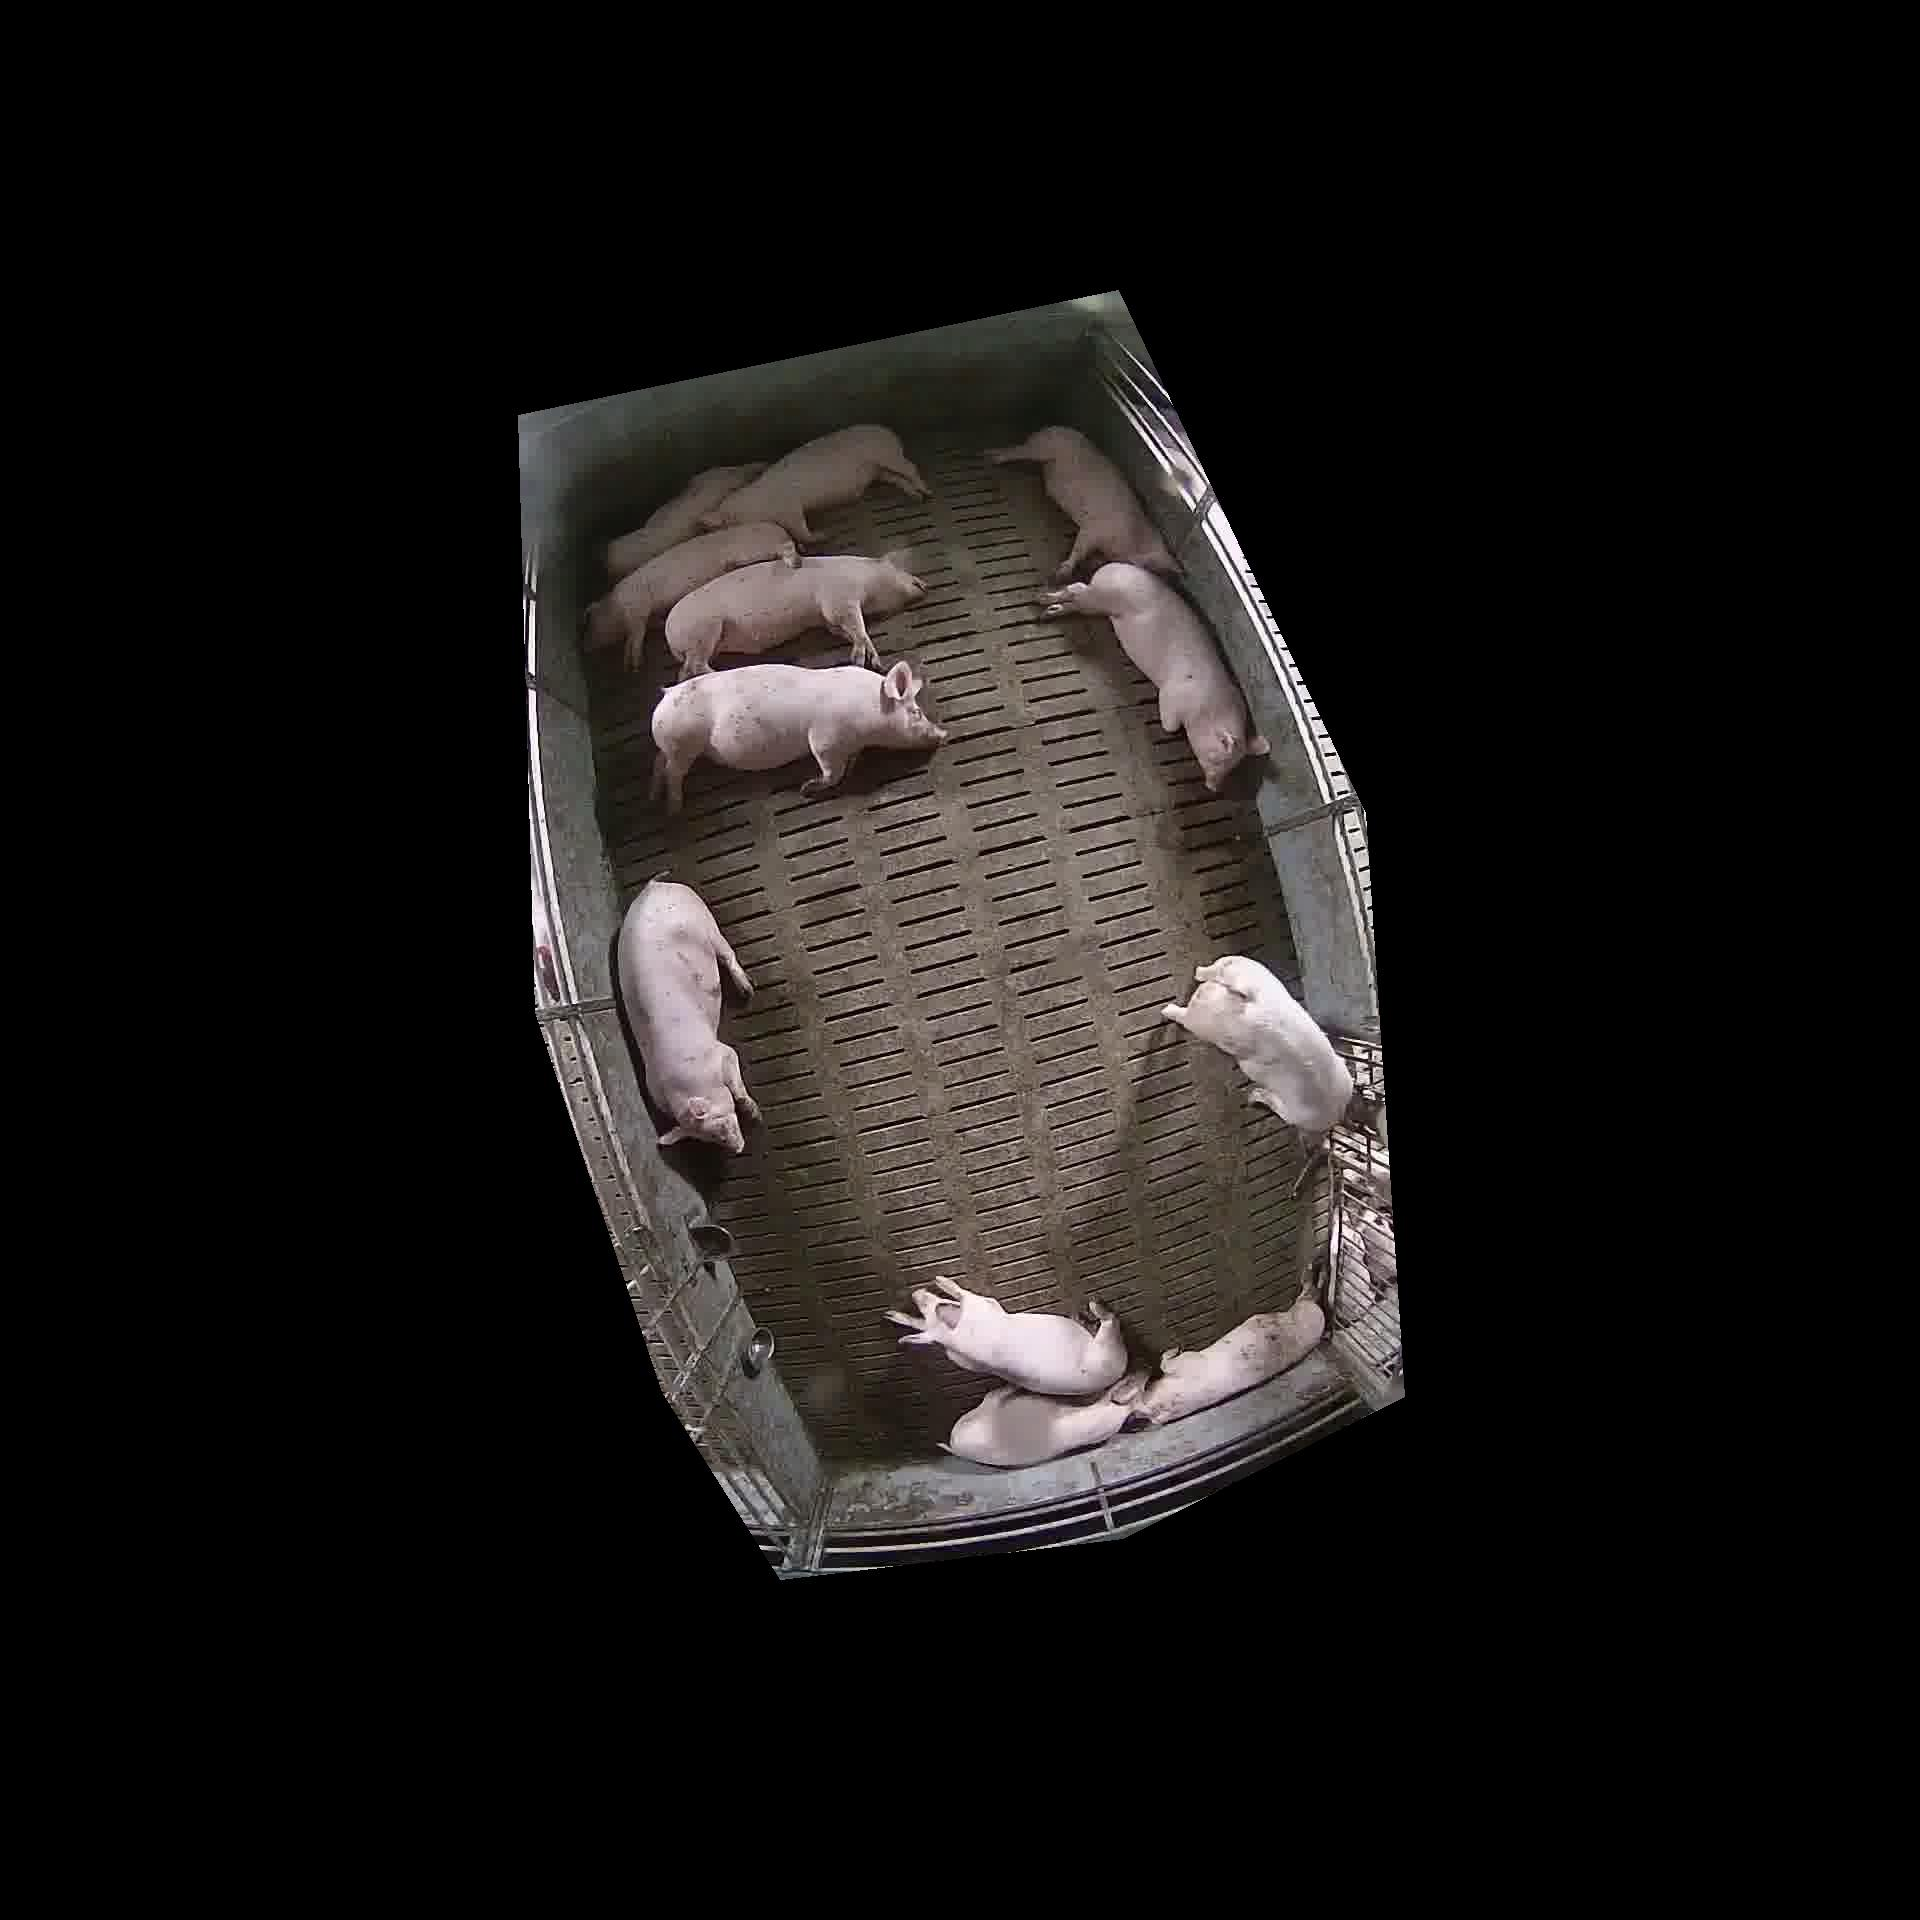pig: (1037, 563, 1264, 788), (652, 663, 946, 812), (617, 879, 758, 1152), (1162, 956, 1354, 1136), (665, 550, 925, 679), (585, 522, 795, 666), (985, 425, 1176, 577), (886, 1276, 1127, 1394), (702, 425, 928, 543), (1136, 1298, 1326, 1424), (607, 462, 765, 580), (948, 1373, 1146, 1466)
